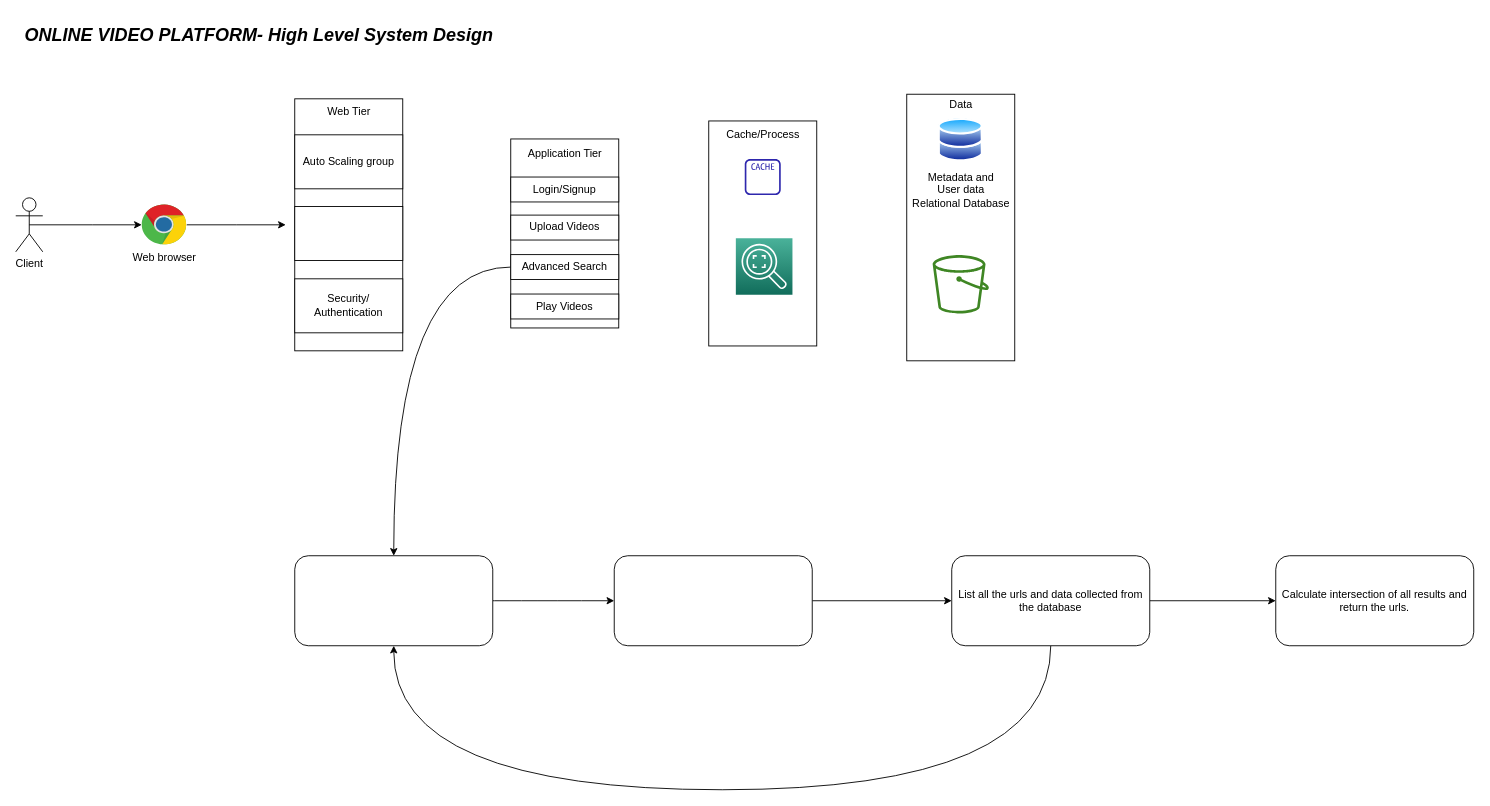
This 1490x806 diagram has some shape labels left out. Here are the shapes that lost their labels. From the top down, the centre of each, then its label:
At point (762, 177): "Hot Searches".
At point (348, 233): "Load Balancer".
At point (763, 266): "Rekognition- Content Filter".
At point (960, 284): "S3- Video Storage".
At point (393, 600): "For Each Keyword in the query, search the database".
At point (712, 600): "Retrieve The results for RDS".
